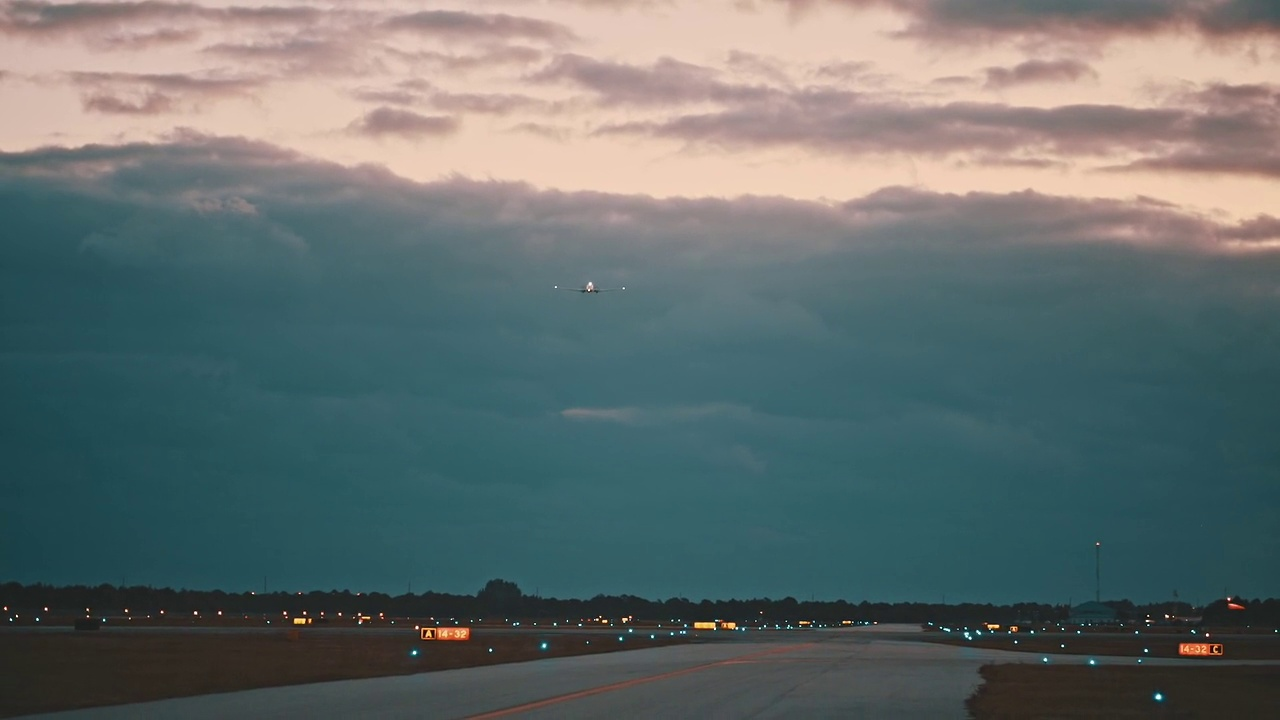plane: (550, 277, 625, 295)
